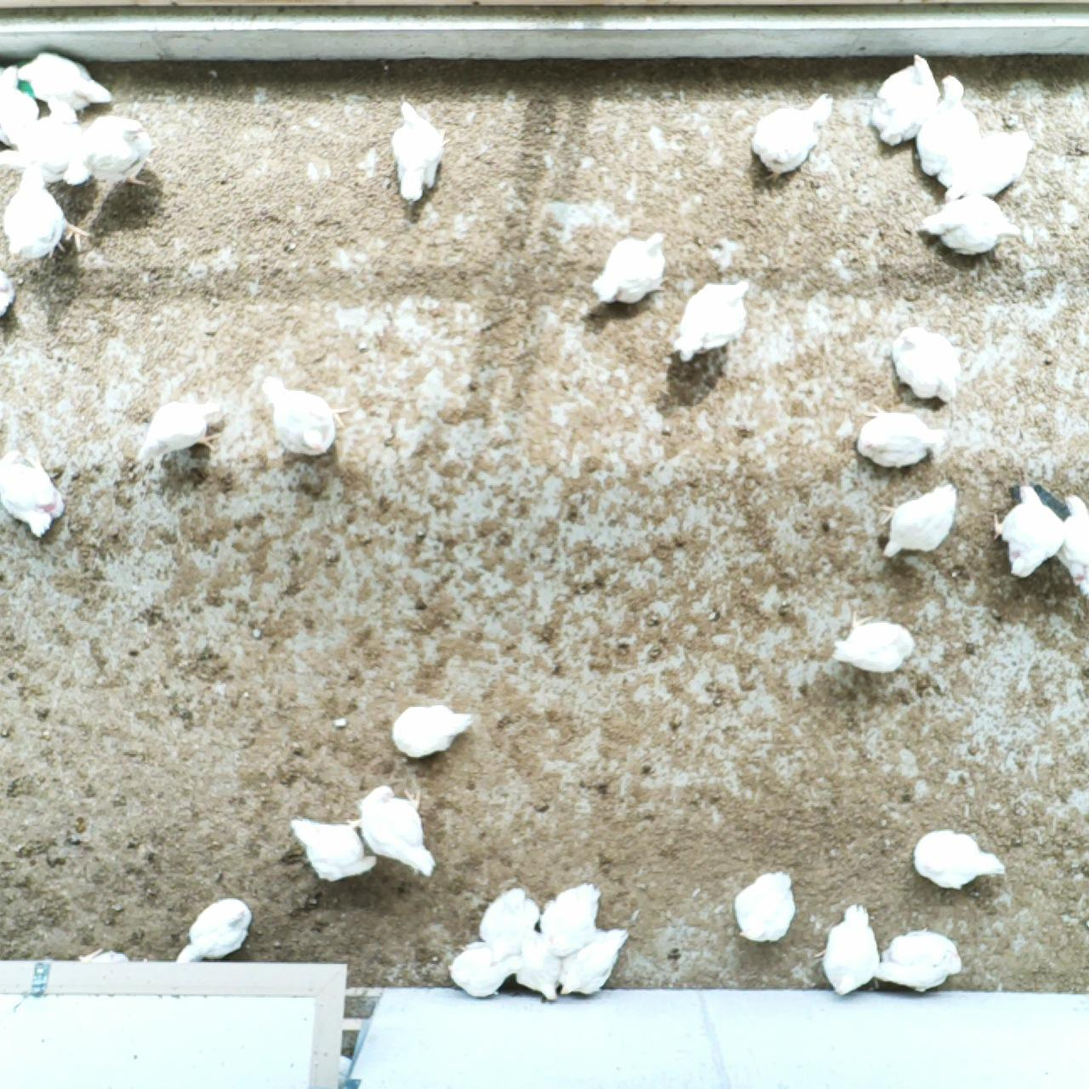chicken: (125, 391, 232, 473), (0, 162, 89, 257), (911, 74, 986, 186), (864, 49, 944, 152), (669, 272, 755, 364), (939, 123, 1039, 202), (258, 376, 351, 456), (749, 92, 831, 182), (362, 780, 437, 877), (991, 482, 1059, 585), (921, 191, 1022, 259), (589, 228, 677, 306), (881, 481, 962, 564), (64, 113, 152, 188), (816, 903, 883, 1000), (0, 444, 69, 537), (287, 812, 376, 884), (390, 100, 452, 203), (911, 827, 1006, 893), (888, 322, 959, 407), (0, 109, 80, 184), (874, 928, 962, 995), (854, 405, 946, 469), (556, 922, 630, 1001), (17, 54, 107, 115), (828, 615, 916, 674), (181, 895, 256, 964), (540, 878, 603, 958), (729, 871, 797, 945), (392, 700, 473, 761), (478, 881, 543, 957), (1051, 490, 1089, 613), (449, 940, 516, 1002), (0, 62, 40, 153), (513, 929, 563, 999), (79, 942, 135, 965), (0, 268, 18, 320)
